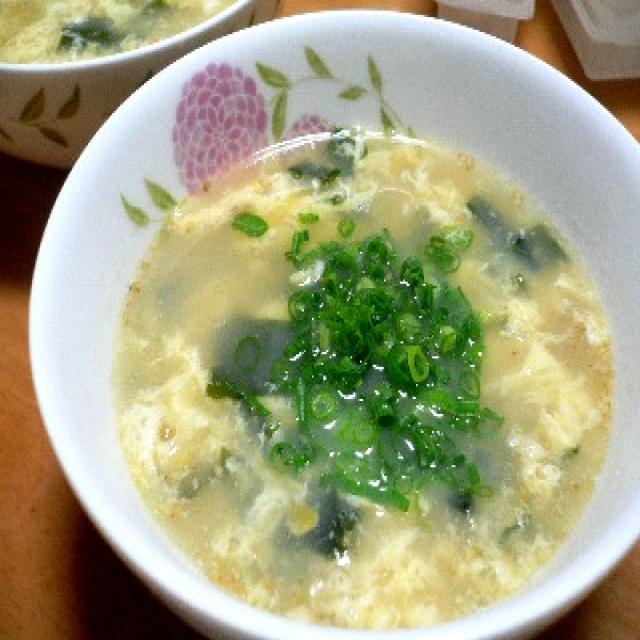汤锅炖物: (45, 23, 640, 636)
